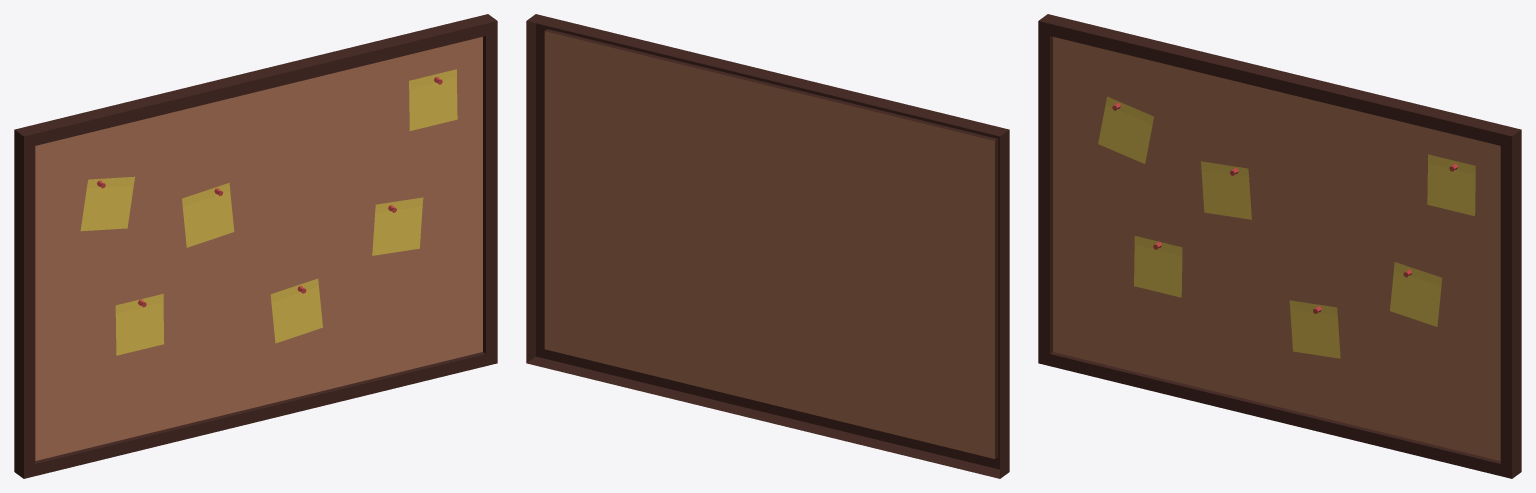
The model's file is Wall_corkboard_with_post_it_notes.fbx.
3 renders of one model, left to right at view 1: azimuth 30°, elevation 25°; view 2: azimuth 150°, elevation 25°; view 3: azimuth 330°, elevation 25°, orthographic.
Visible parts, largest first — view 1: Wall_corkboard_with_post_it_notes; view 2: Wall_corkboard_with_post_it_notes; view 3: Wall_corkboard_with_post_it_notes.
Boxes of the visible parts, box(x1,y1,x2,y2) form: Wall_corkboard_with_post_it_notes: box(14, 14, 497, 478); Wall_corkboard_with_post_it_notes: box(526, 14, 1009, 478); Wall_corkboard_with_post_it_notes: box(1038, 14, 1521, 478).
Size of the model in its own units: 0.7626 by 0.5266 by 0.0306.
1 material, 1 textured.
